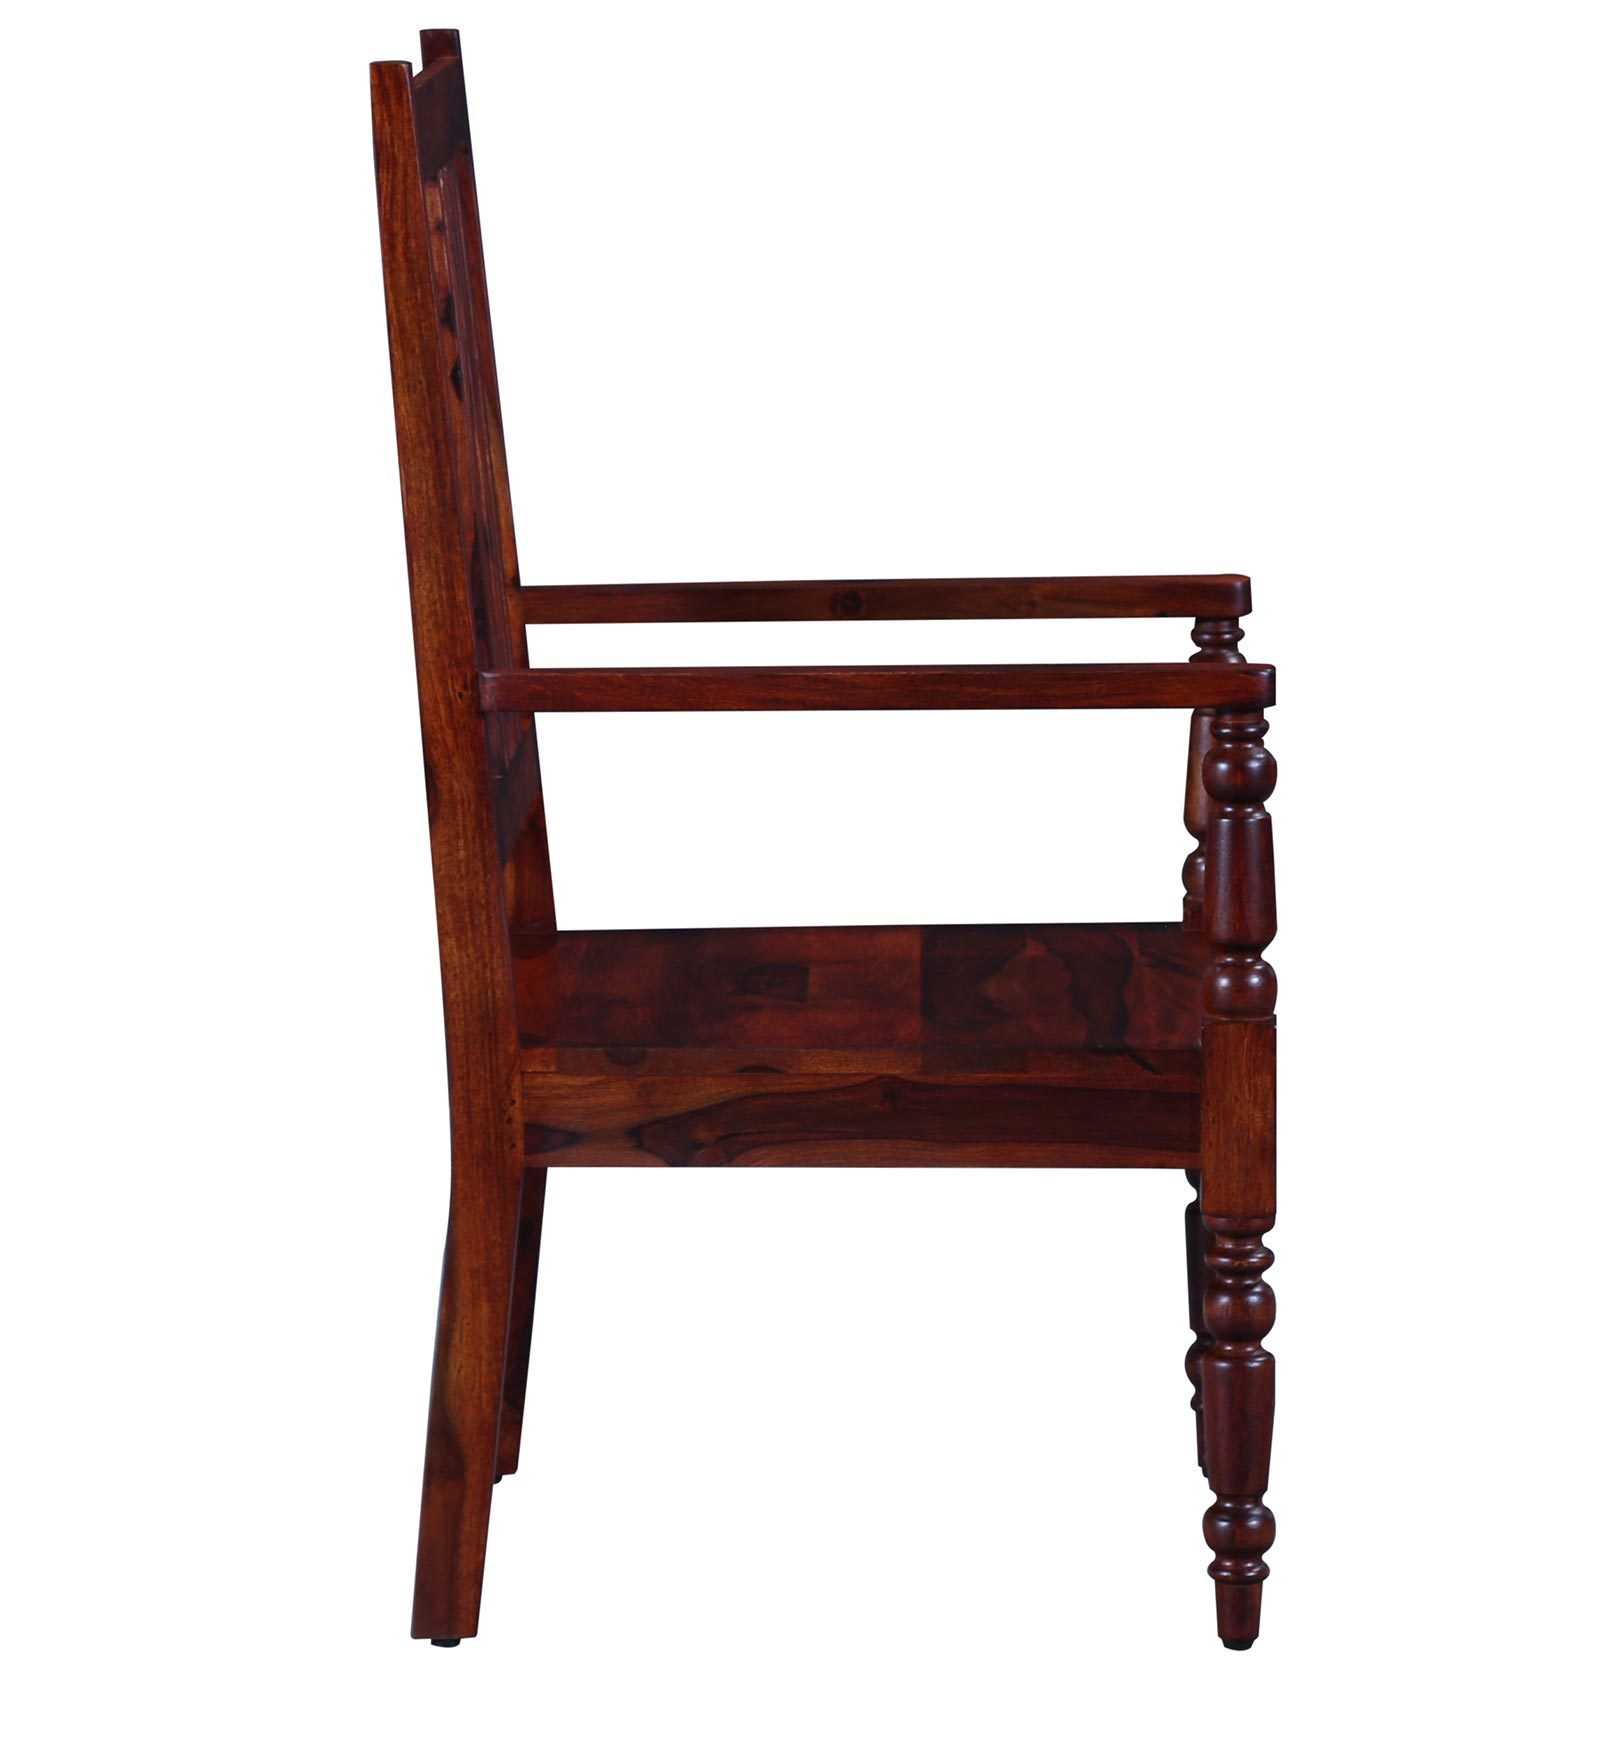Harleston Arm Chair in Honey Oak Finish by Amberville: (274, 17, 1390, 1706)
